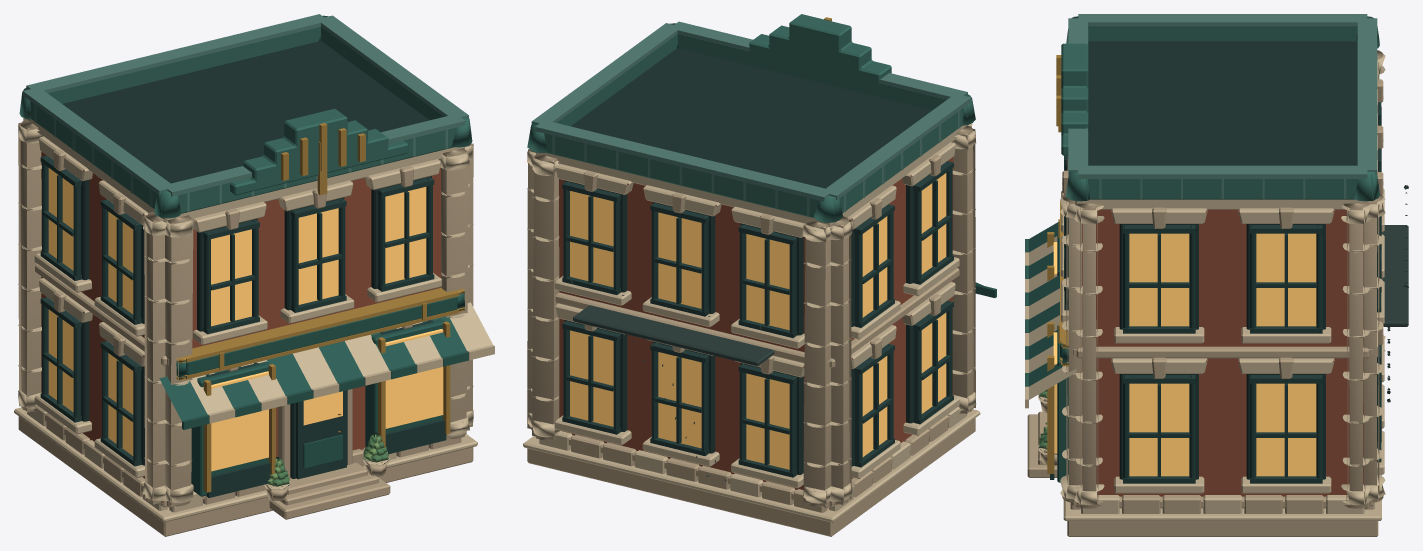
3 renders of one model, left to right at view 1: azimuth 30°, elevation 25°; view 2: azimuth 150°, elevation 25°; view 3: azimuth 270°, elevation 25°, orthographic. The views are drawn at different scales.
Parts seen in each view (by area): view 1: expansion_shop_2_geometry; view 2: expansion_shop_2_geometry; view 3: expansion_shop_2_geometry.
Boxes of the visible parts, bbox=[...] form: expansion_shop_2_geometry: bbox=[14, 14, 494, 536]; expansion_shop_2_geometry: bbox=[523, 14, 996, 536]; expansion_shop_2_geometry: bbox=[1025, 14, 1408, 536].
Bounding box in the file's own units: 0.99 × 1.11 × 0.9616.
